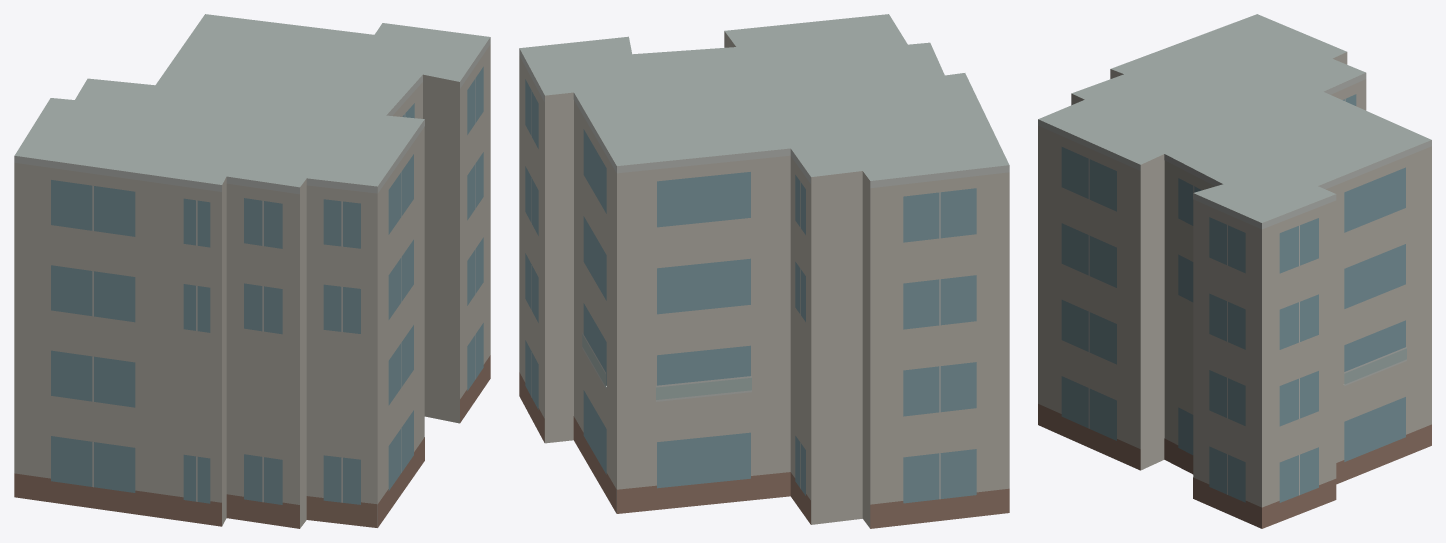
The model's file is survey-upis-33038305.glb.
The picture shows the model from 3 angles, left to right: view 1: azimuth 30°, elevation 25°; view 2: azimuth 150°, elevation 25°; view 3: azimuth 270°, elevation 25°; orthographic projection. The views are drawn at different scales.
Parts seen in each view (by area): view 1: survey-upis-33038305.tmp; view 2: survey-upis-33038305.tmp; view 3: survey-upis-33038305.tmp.
Boxes of the visible parts, x1,y1,x2,y2 form: survey-upis-33038305.tmp: [14, 14, 490, 528]; survey-upis-33038305.tmp: [519, 14, 1009, 528]; survey-upis-33038305.tmp: [1038, 14, 1431, 528].
Size of the model in its own units: 17.32 by 11.8 by 13.78.
